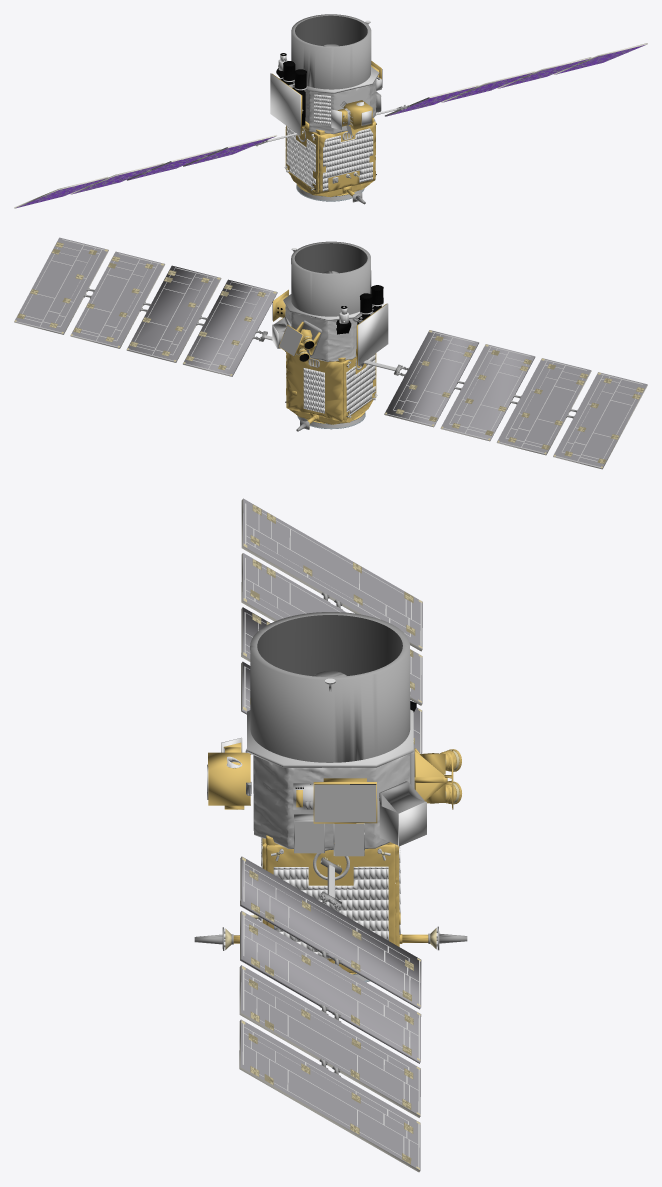
Rendered from weixing.glb.
3 renders of one model, top to bottom at view 1: azimuth 30°, elevation 25°; view 2: azimuth 150°, elevation 25°; view 3: azimuth 270°, elevation 25°, orthographic. The views are drawn at different scales.
Visible parts, largest first — view 1: Mesh__8, Mesh__22, Mesh__10, Mesh__19, Mesh__4, Mesh__21, Mesh, Mesh__6, Mesh__20, Mesh__12, Mesh__13, Mesh__16 (+5 smaller); view 2: Mesh__19, Mesh__10, Mesh__8, Mesh__22, Mesh__3, Mesh__6, Mesh__21, Mesh__2, Mesh__4, Mesh__7, Mesh__20, Mesh__17 (+1 smaller); view 3: Mesh__19, Mesh__10, Mesh__22, Mesh__21, Mesh__4, Mesh__8, Mesh__7, Mesh__3, Mesh__5, Mesh__20, Mesh__2.
Boxes of the visible parts, bbox=[...] form: Mesh__8: bbox=[270, 20, 373, 191]; Mesh__22: bbox=[291, 14, 371, 89]; Mesh__10: bbox=[267, 65, 397, 200]; Mesh__19: bbox=[15, 44, 646, 208]; Mesh__4: bbox=[285, 65, 378, 197]; Mesh__21: bbox=[295, 15, 367, 45]; Mesh: bbox=[17, 45, 643, 207]; Mesh__6: bbox=[285, 122, 376, 193]; Mesh__20: bbox=[14, 43, 647, 208]; Mesh__12: bbox=[19, 45, 645, 206]; Mesh__13: bbox=[17, 48, 631, 207]; Mesh__16: bbox=[23, 46, 640, 205]; Mesh__19: bbox=[14, 237, 647, 468]; Mesh__10: bbox=[16, 239, 642, 467]; Mesh__8: bbox=[272, 248, 388, 415]; Mesh__22: bbox=[291, 241, 371, 316]; Mesh__3: bbox=[17, 242, 644, 463]; Mesh__6: bbox=[286, 352, 376, 421]; Mesh__21: bbox=[294, 243, 367, 273]; Mesh__2: bbox=[14, 242, 643, 468]; Mesh__4: bbox=[275, 295, 376, 424]; Mesh__7: bbox=[83, 249, 577, 431]; Mesh__20: bbox=[14, 250, 647, 469]; Mesh__17: bbox=[272, 285, 383, 417]; Mesh__19: bbox=[240, 498, 422, 1170]; Mesh__10: bbox=[242, 503, 424, 1167]; Mesh__22: bbox=[250, 612, 410, 762]; Mesh__21: bbox=[257, 615, 402, 676]; Mesh__4: bbox=[208, 742, 400, 974]; Mesh__8: bbox=[207, 678, 426, 958]; Mesh__7: bbox=[194, 592, 467, 1076]; Mesh__3: bbox=[248, 504, 415, 1164]; Mesh__5: bbox=[233, 748, 461, 943]; Mesh__20: bbox=[239, 498, 422, 1172]; Mesh__2: bbox=[225, 505, 459, 1169].
Size of the model in its own units: 95.27 by 24.22 by 19.1.
